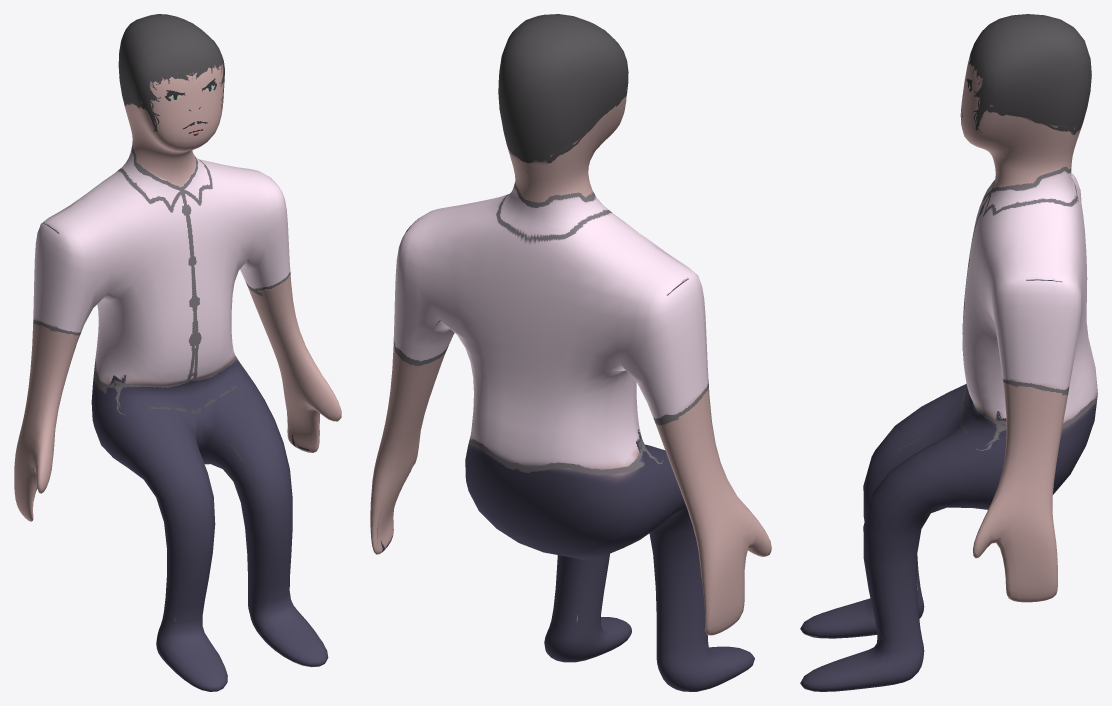
Rendered from boss.fbx.
3 renders of one model, left to right at view 1: azimuth 30°, elevation 25°; view 2: azimuth 150°, elevation 25°; view 3: azimuth 270°, elevation 25°, orthographic. The views are drawn at different scales.
Parts seen in each view (by area): view 1: Cube; view 2: Cube; view 3: Cube.
Boxes of the visible parts, bbox=[...] form: Cube: bbox=[14, 14, 341, 691]; Cube: bbox=[370, 14, 771, 691]; Cube: bbox=[800, 14, 1097, 691].
Size of the model in its own units: 567 by 1038 by 438.
1 material, 1 textured.
